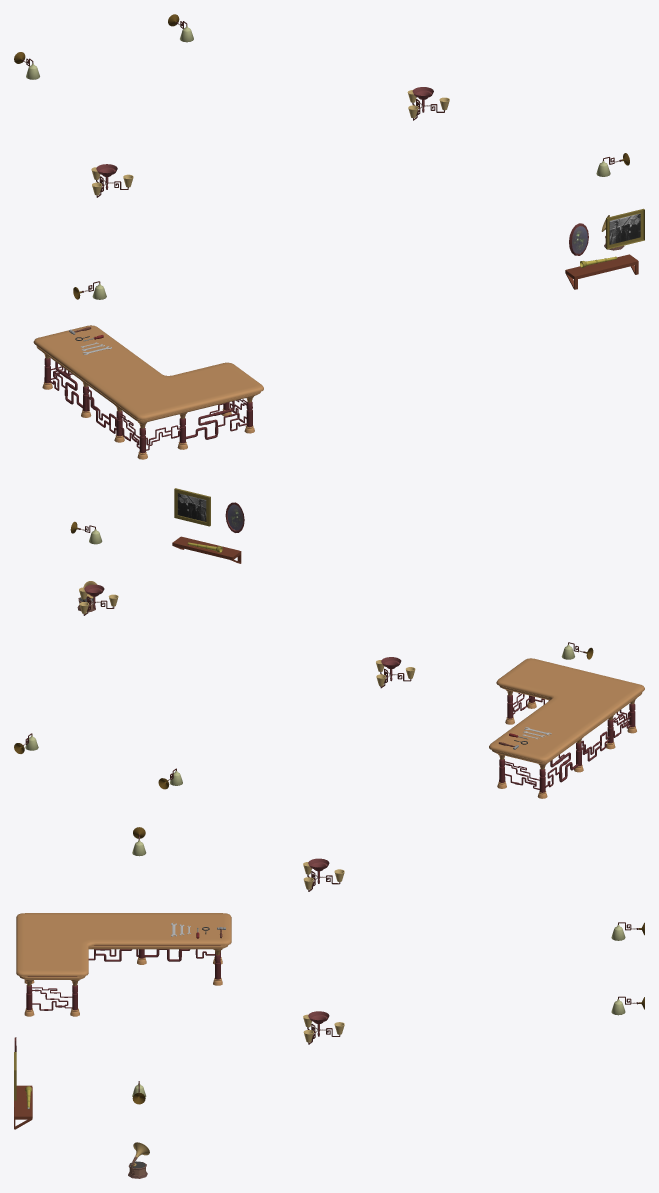
The model's file is objs2.fbx.
3 renders of one model, top to bottom at view 1: azimuth 30°, elevation 25°; view 2: azimuth 150°, elevation 25°; view 3: azimuth 270°, elevation 25°, orthographic. The views are drawn at different scales.
Visible parts, largest first — view 1: WorkBench, Frame_Wall, Shelf_Wall, Ceiling_Lamp.002, Ceiling_Lamp.001; view 2: WorkBench, Frame_Wall, Shelf_Wall, Ceiling_Lamp.002, Ceiling_Lamp.001, Frame_03; view 3: WorkBench, Ceiling_Lamp.001, Ceiling_Lamp.002, Shelf_Wall.
Part boxes in pixels (x1,y1,x2,y2): WorkBench: (33,325,263,459); Frame_Wall: (606,208,644,249); Shelf_Wall: (565,254,638,289); Ceiling_Lamp.002: (407,87,449,120); Ceiling_Lamp.001: (91,164,133,197); WorkBench: (489,658,644,798); Frame_Wall: (174,488,210,526); Shelf_Wall: (172,536,241,563); Ceiling_Lamp.002: (79,584,118,615); Ceiling_Lamp.001: (376,657,415,688); Frame_03: (225,502,244,532); WorkBench: (16,913,231,1016); Ceiling_Lamp.001: (303,858,344,891); Ceiling_Lamp.002: (303,1011,344,1044); Shelf_Wall: (14,1085,32,1129).
Bounding box in the file's own units: 1507 × 405 × 1513.
43 materials, 2 textured.
